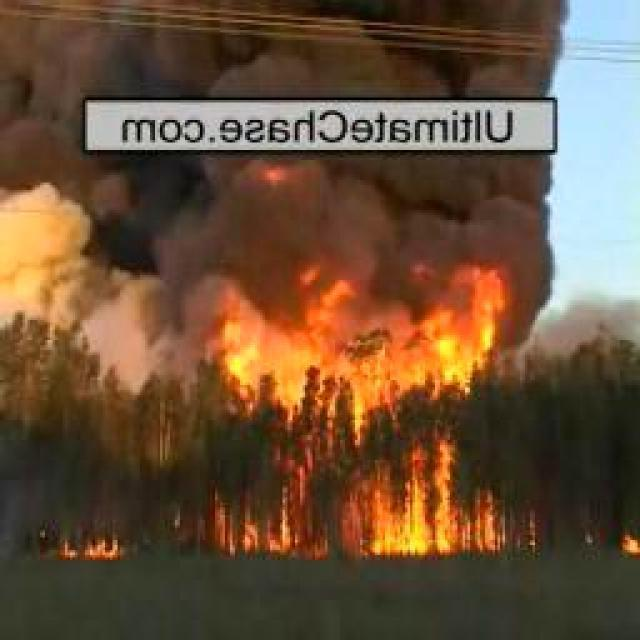Fire: (208, 250, 512, 560), (58, 536, 126, 558), (613, 533, 640, 559)
